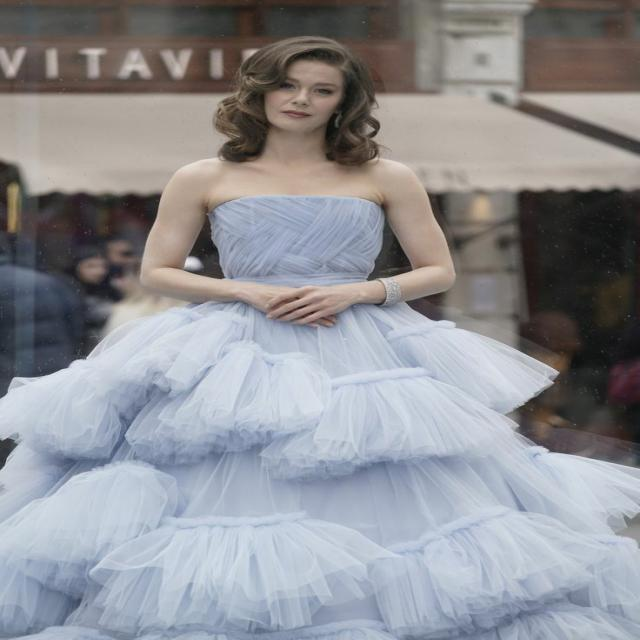female-dress: (4, 189, 640, 640)
